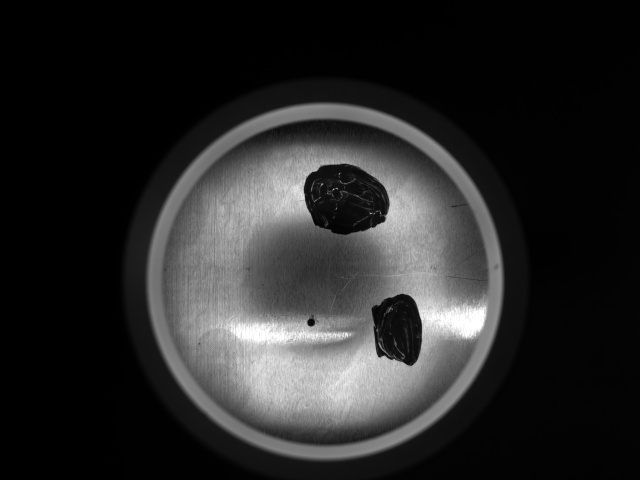zang_wu: (301, 161, 390, 234), (368, 292, 424, 366)
zhen_kong: (303, 314, 319, 330)
